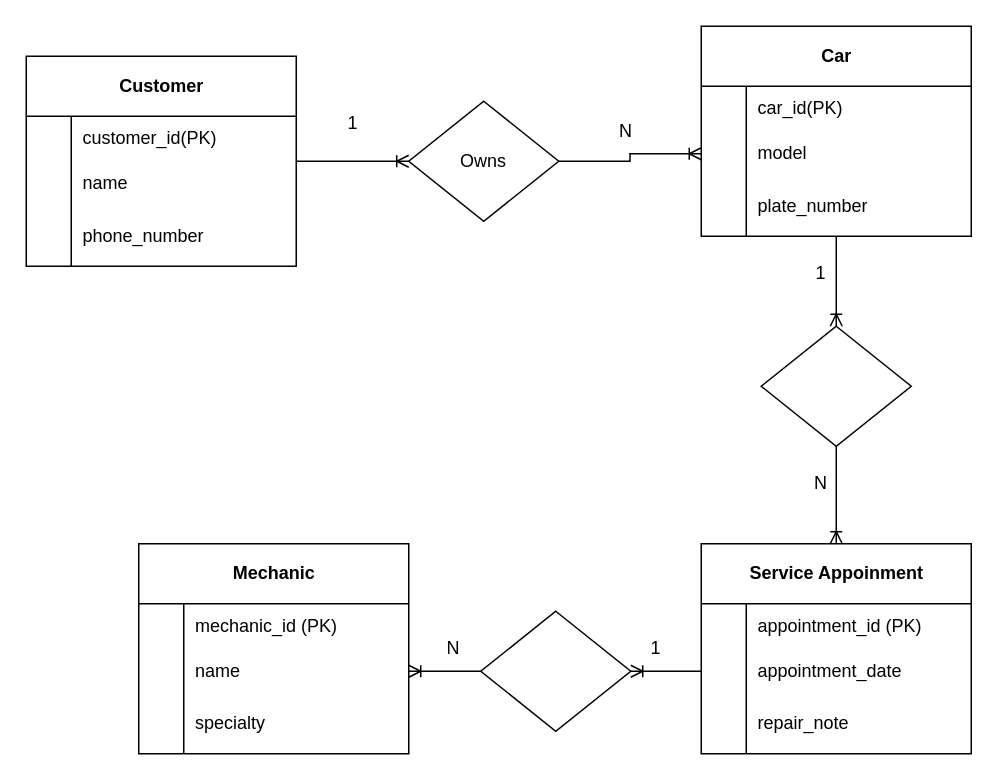
Some shapes in this 998 by 780 pixel diagram are drawn without their labels. Each missing label, with the box of its shape:
Handles: (479, 610, 631, 731)
Has: (760, 325, 911, 446)
